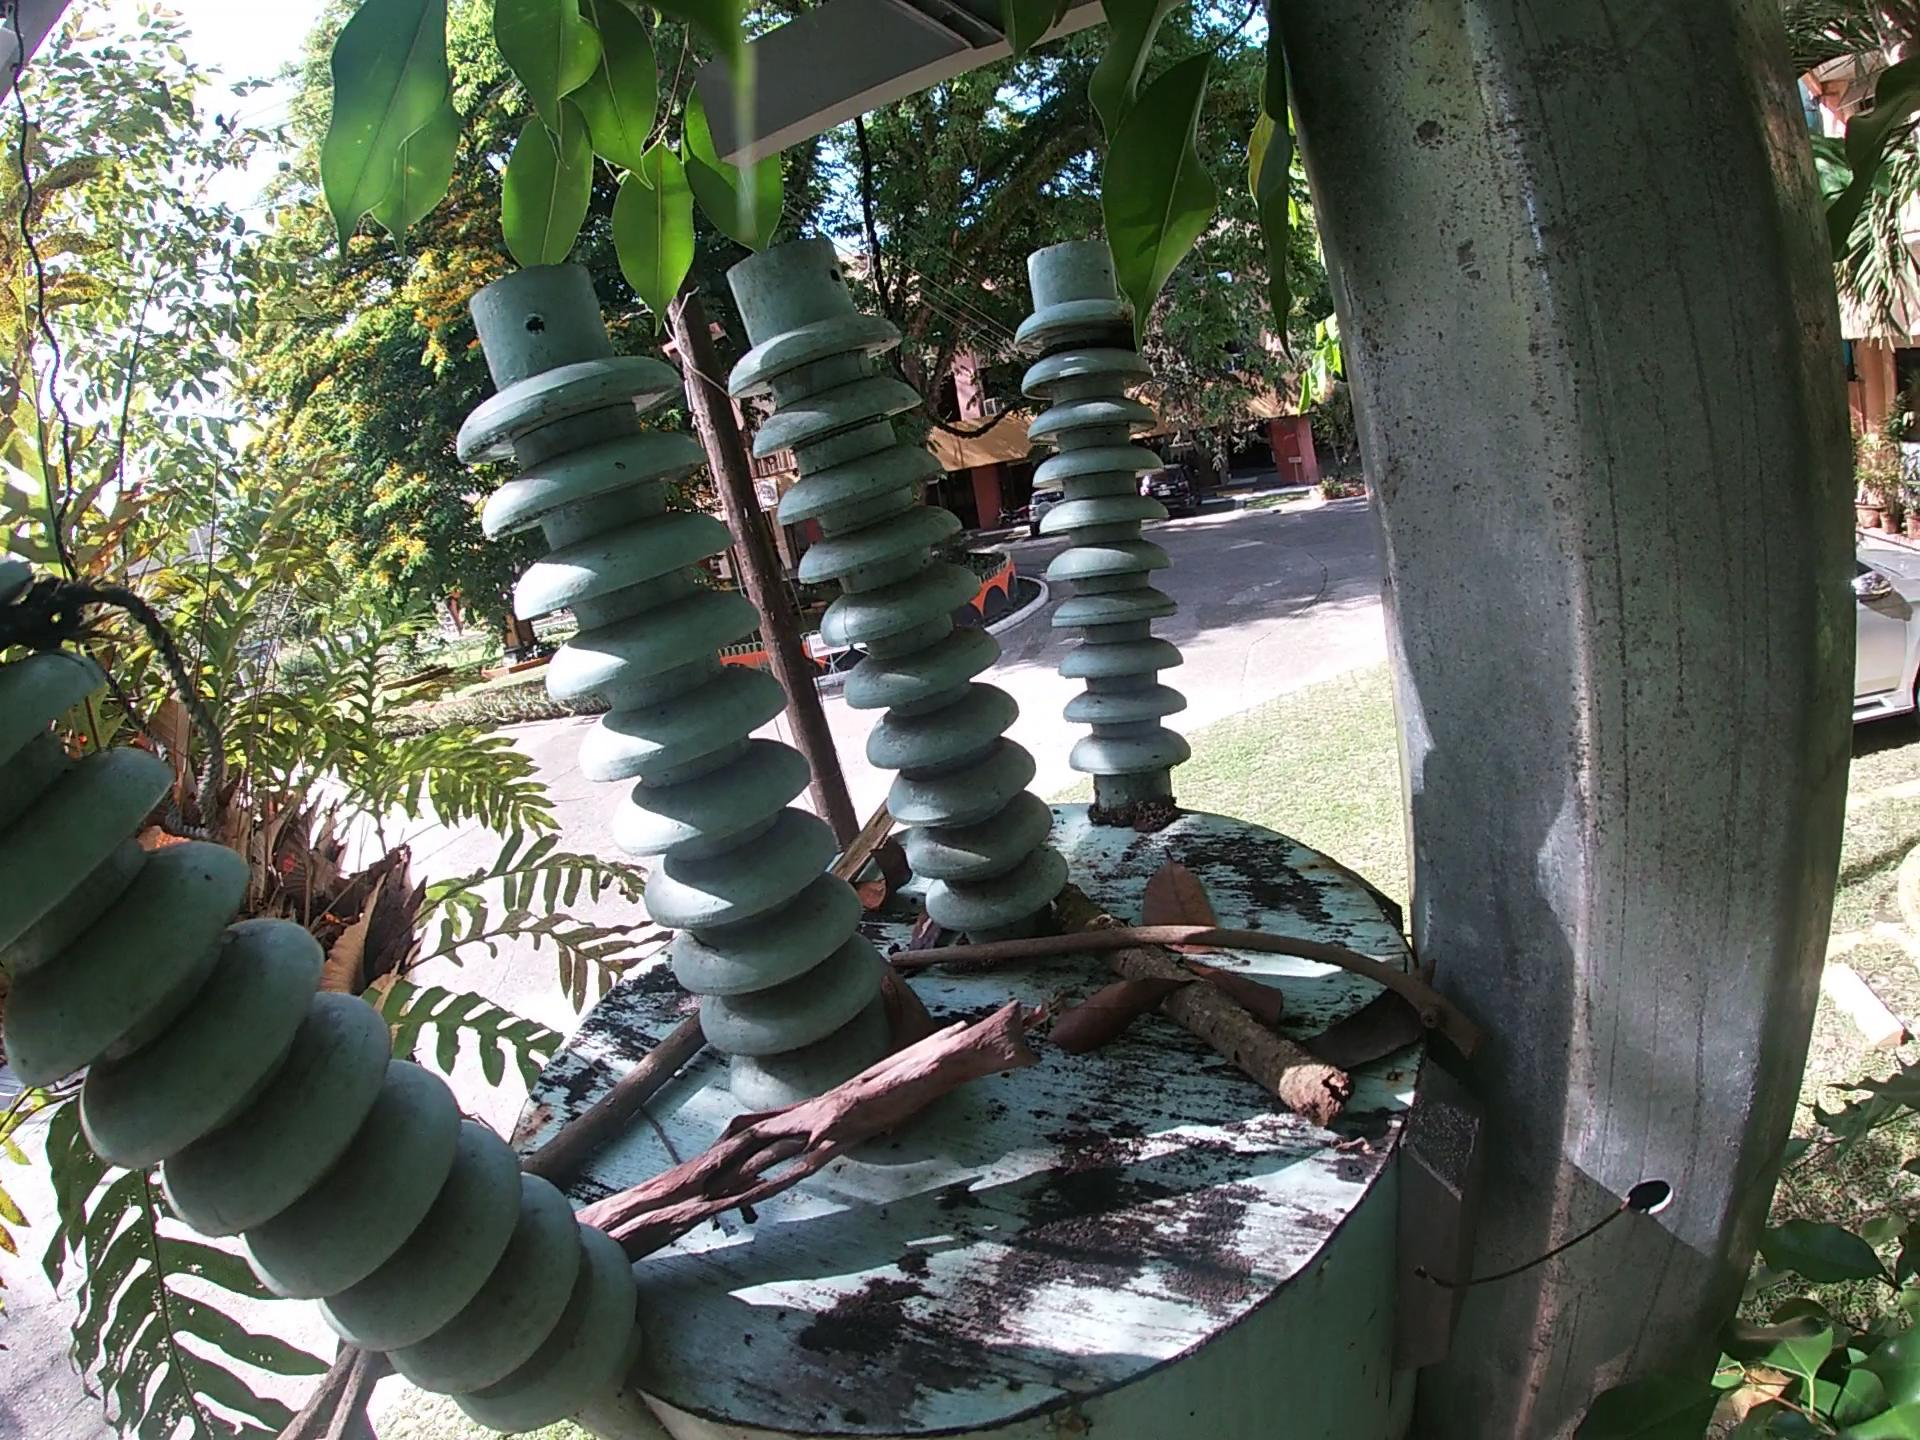leaf: (1297, 942, 1435, 1082), (1043, 962, 1206, 1063), (1125, 847, 1246, 965), (1181, 950, 1294, 1036)
mahogany fruit: (866, 953, 931, 1056), (850, 832, 918, 914)
tree branch: (562, 988, 1055, 1274), (874, 920, 1512, 1088), (1039, 874, 1364, 1142), (522, 1004, 717, 1195), (828, 788, 901, 886)
